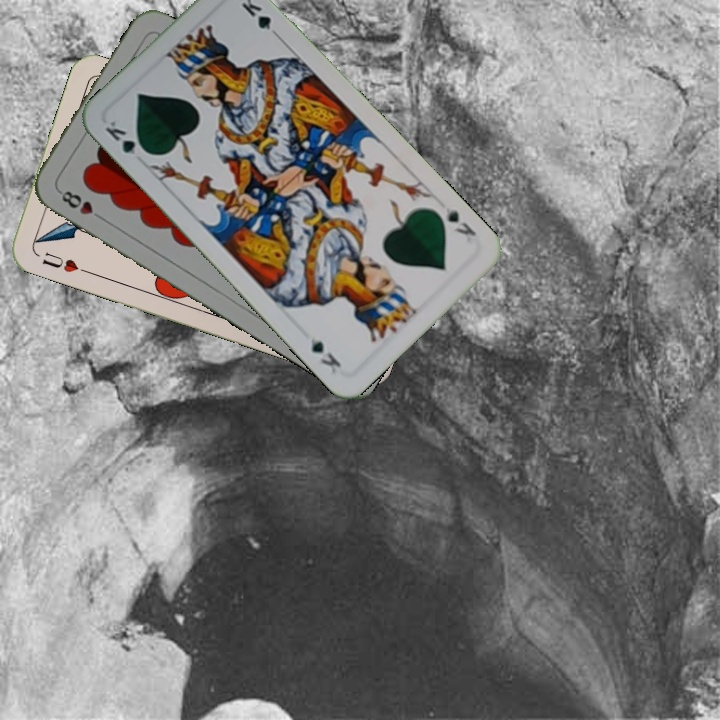GK: (101, 116, 152, 161), (442, 203, 479, 247)
H8: (54, 186, 107, 223)
HU: (38, 247, 91, 276)
